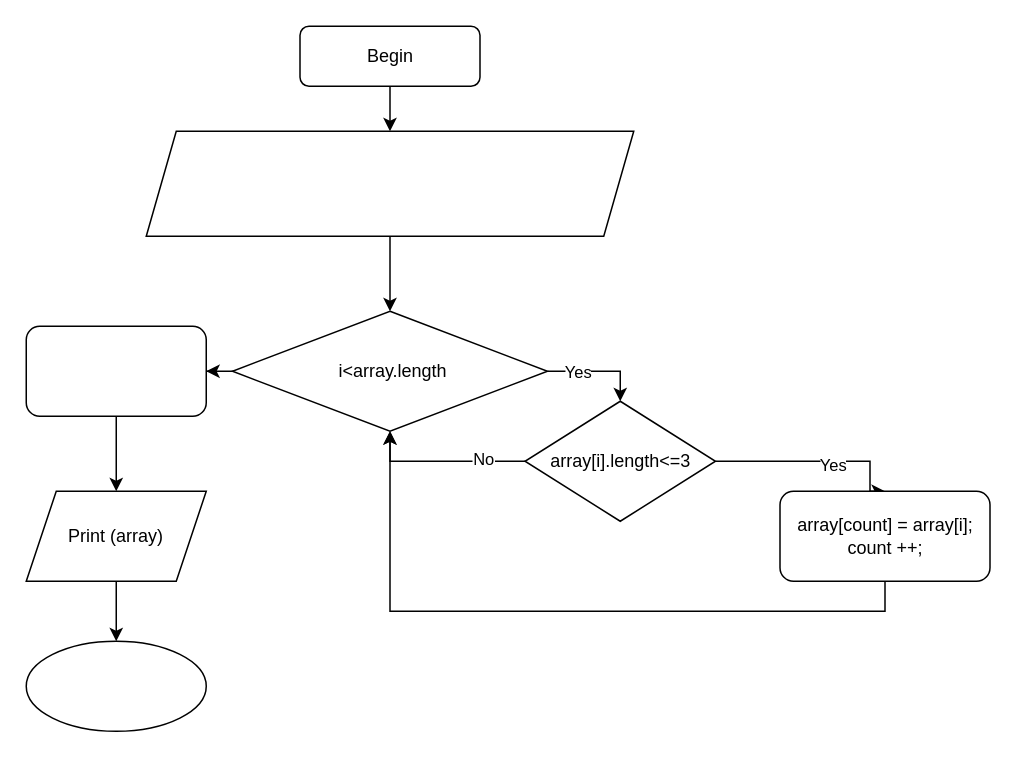
This 1017x758 diagram has some shape labels left out. The centre of each missing label's shape, as x and y in pixels:
END: point 115,685
Resize(ref array,count);: point 115,370
string[] array = new string [] { "hello", "2", "world", ":-)" }; int count = 0;: point 389,183
